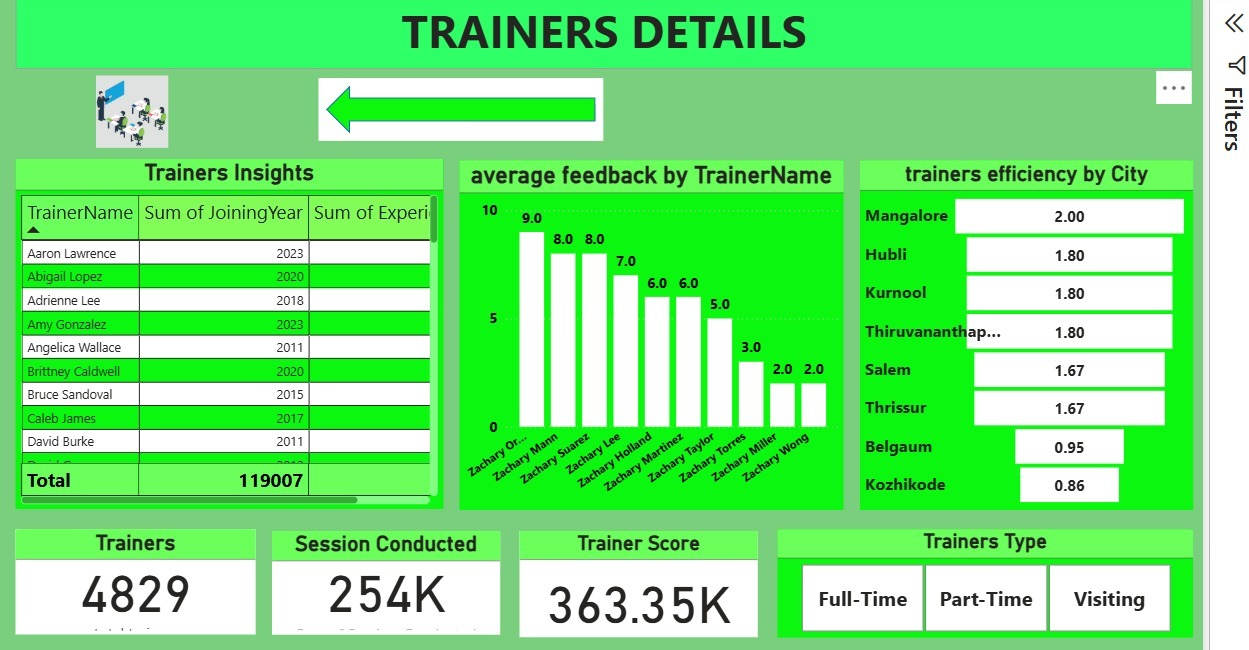

What the dashboard file says about the page in this screenshot:
{"tool":"powerbi","page":{"name":"Page 6","canvas":[1280,720],"ordinal":5},"visuals":[{"type":"card","title":"Trainer Score","fields":{"Values":["Sum(trainers data.TrainerScore)"]},"box":[555.1,569.4,252.9,112.9],"z":0},{"type":"card","title":"Session Conducted","fields":{"Values":["Sum(trainers data.SessionsConducted)"]},"box":[292.7,569.4,241.8,109.8],"z":1000},{"type":"tableEx","title":"Trainers Insights","fields":{"Values":["trainers data.TrainerName","Sum(trainers data.JoiningYear)","Sum(trainers data.ExperienceYears)"]},"box":[20.7,175,453.3,370.6],"z":2000},{"type":"card","title":"Trainers","fields":{"Values":["measure table.total trainers"]},"box":[20.7,567.8,254.5,111.3],"z":3000},{"type":"clusteredColumnChart","fields":{"Category":["trainers data.TrainerName"],"Y":["measure table.average feedback"]},"box":[491.5,176.6,407.2,370.6],"z":4000},{"type":"funnel","fields":{"Category":["trainers data.City"],"Y":["measure table.trainers efficiency"]},"box":[916.2,176.6,353.1,370.6],"z":5000},{"type":"slicer","title":"Trainers Type","fields":{"Values":["trainers data.TrainerType"]},"box":[828.7,567.8,440.6,114.5],"z":6000},{"type":"textbox","box":[20.7,0,1248.6,79.5],"z":7000},{"type":"image","box":[20.3,81,247.1,87.1],"z":8000},{"type":"shape","box":[342.3,89.1,301.8,66.8],"z":9000}]}

Visuals, with their boxes on the page's 1280x720 design canvas (x1, y1, x2, y2). These are canvas units, not pixel positions in the 1249x650 screenshot, which may show the page scaled, cropped or inside an application window:
"Trainer Score" card: [555,569,808,682]
"Session Conducted" card: [293,569,534,679]
"Trainers Insights" tableEx: [21,175,474,546]
"Trainers" card: [21,568,275,679]
clusteredColumnChart - trainers data.TrainerName x measure table.average feedback: [492,177,899,547]
funnel - trainers data.City x measure table.trainers efficiency: [916,177,1269,547]
"Trainers Type" slicer: [829,568,1269,682]
textbox: [21,0,1269,80]
image: [20,81,267,168]
shape: [342,89,644,156]
